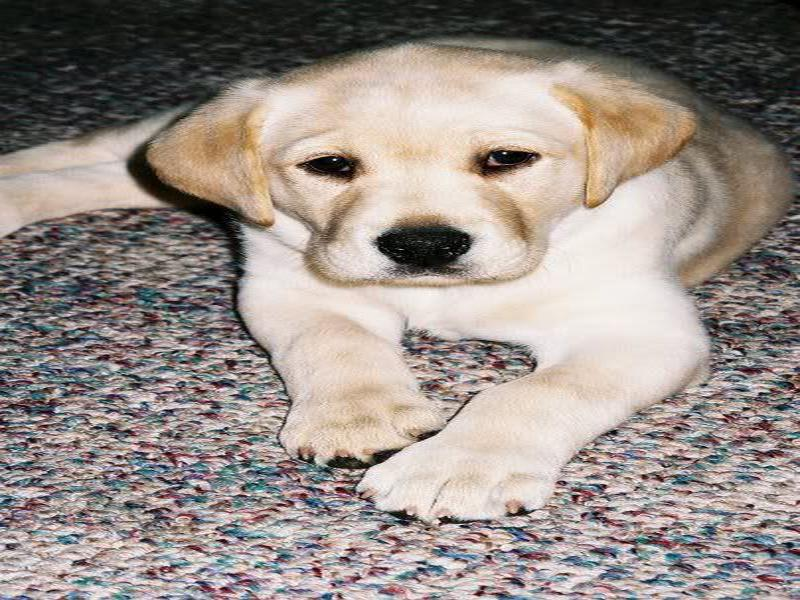dog_down: (1, 33, 800, 523)
